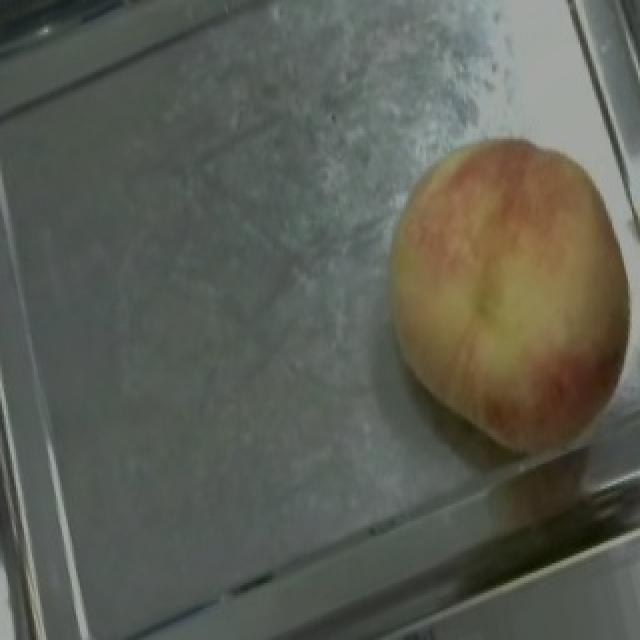Fruit: (342, 102, 640, 491)
